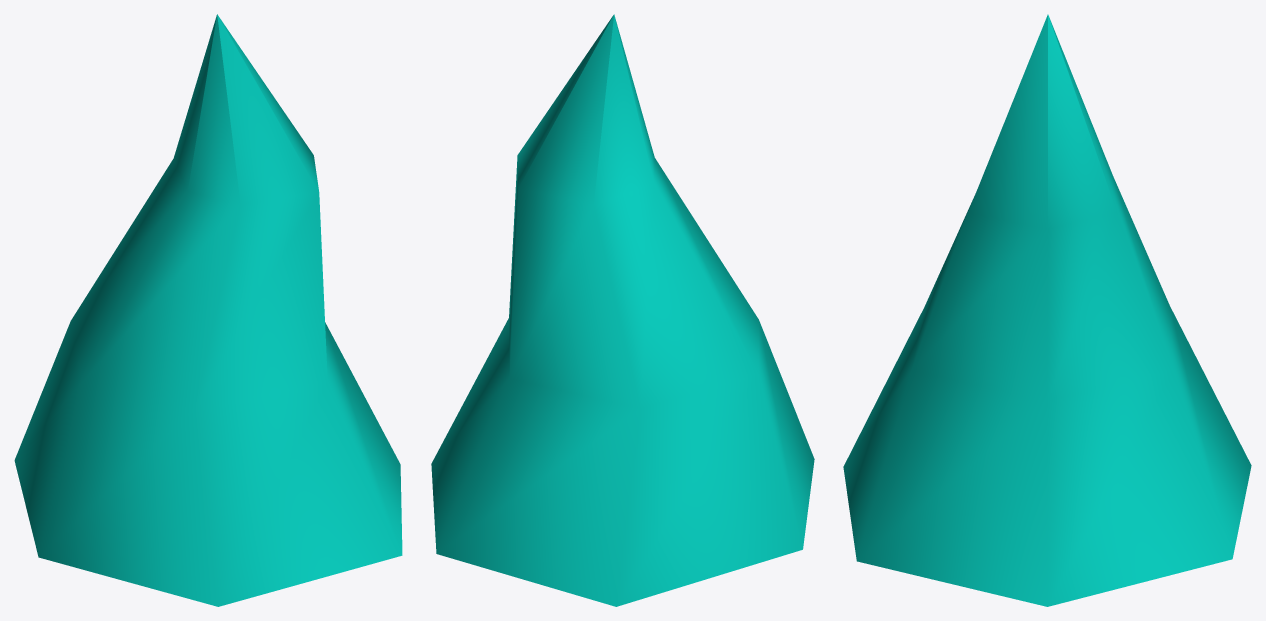
The model's file is IceTomb.fbx.
The picture shows the model from 3 angles, left to right: view 1: azimuth 30°, elevation 25°; view 2: azimuth 150°, elevation 25°; view 3: azimuth 270°, elevation 25°; orthographic projection.
Visible parts, largest first — view 1: pCone1; view 2: pCone1; view 3: pCone1.
Part boxes in pixels (x1,y1,x2,y2): pCone1: (14,14,402,606); pCone1: (431,14,814,606); pCone1: (843,14,1251,606).
Size of the model in its own units: 1.55 by 2 by 1.47.
